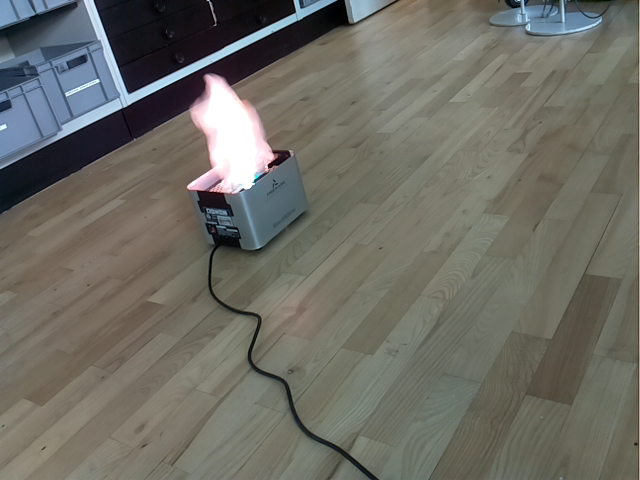fire: (189, 73, 275, 194)
